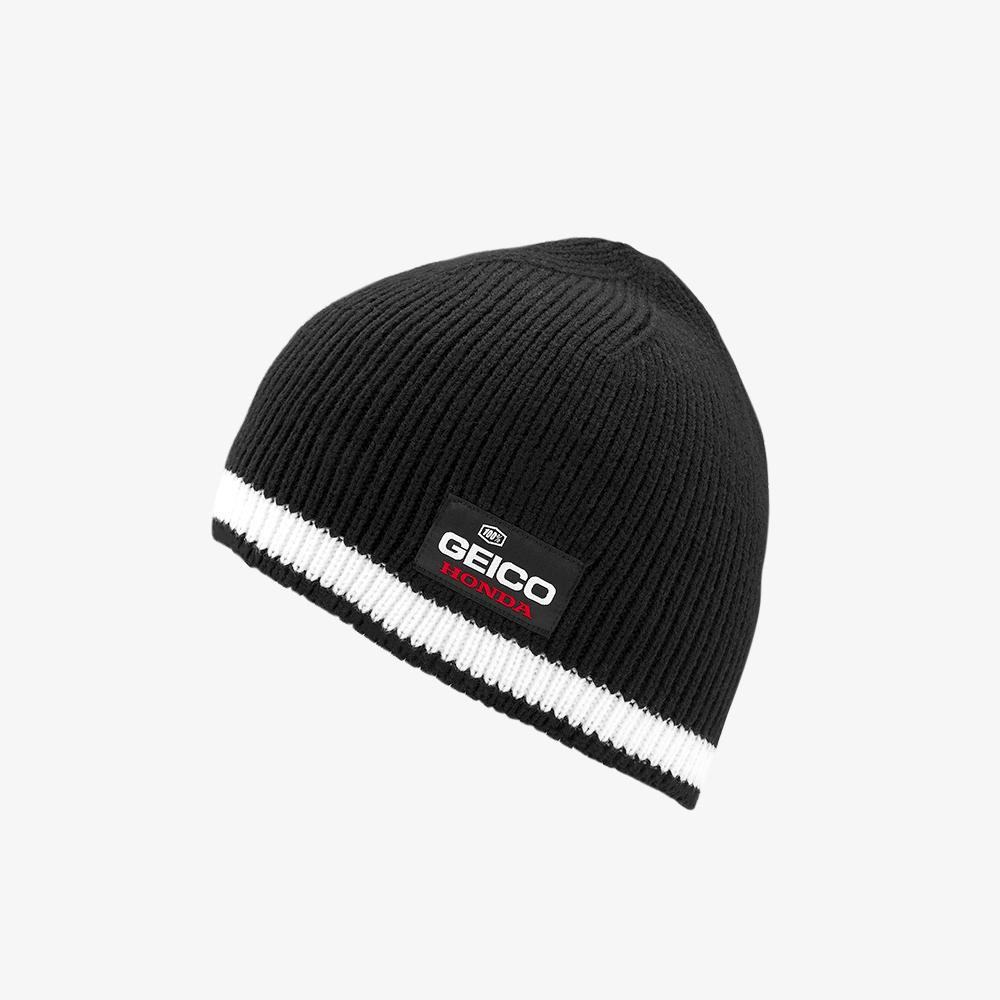Geico: (440, 522, 568, 613)
